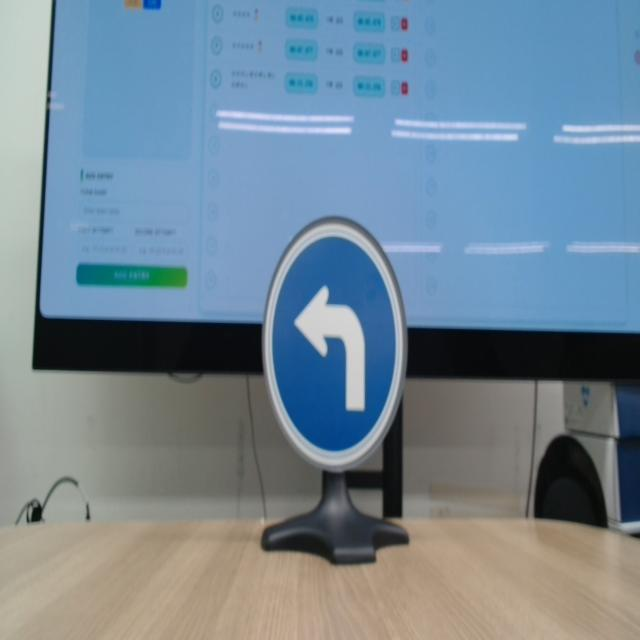left_direction: (260, 202, 424, 484)
